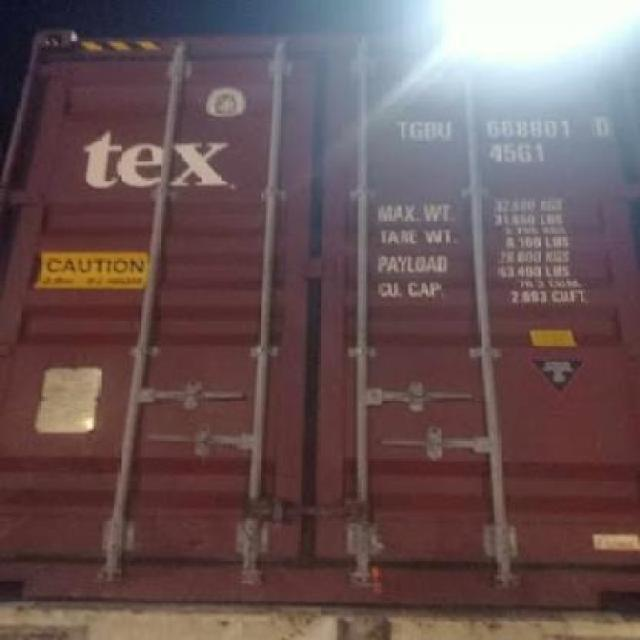ISO: (486, 142, 550, 167)
container_number: (392, 115, 620, 141)
